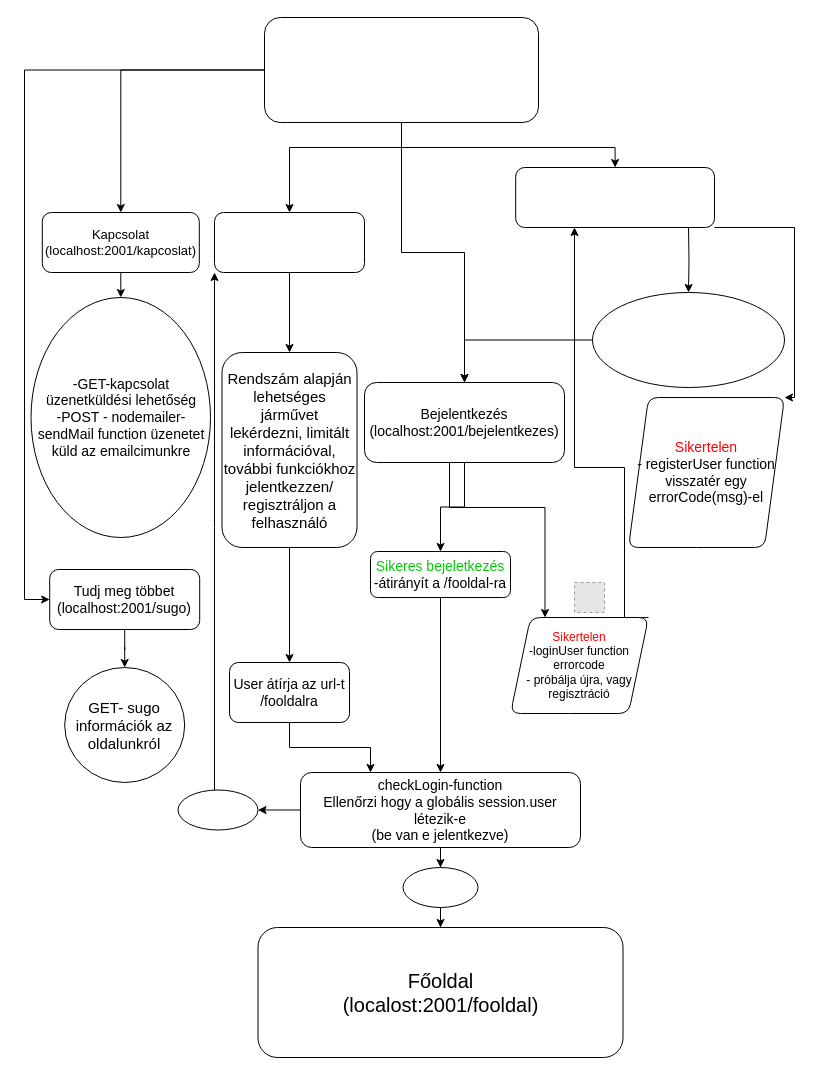
The diagram is 820 pixels wide and 1075 high, and some of its shapes have lost their labels. Grey dashed boxes stand in for pictures. The shapes that lost their labels are listed below. From the top down, each one's centre as x and y in pixels, then its label:
(401,69): Nyitó oldal (elérés: localhost:2001/ )
(614,197): Regisztráció (localhost:2001/regisztracio)
(289,242): Folytatás vendégként (localhost:2001/vengeg)
(688,340): Sikeres kitöltés Redirect: localhost:2001/bejelentkezes
(217,809): Nem
(440,887): Igen
